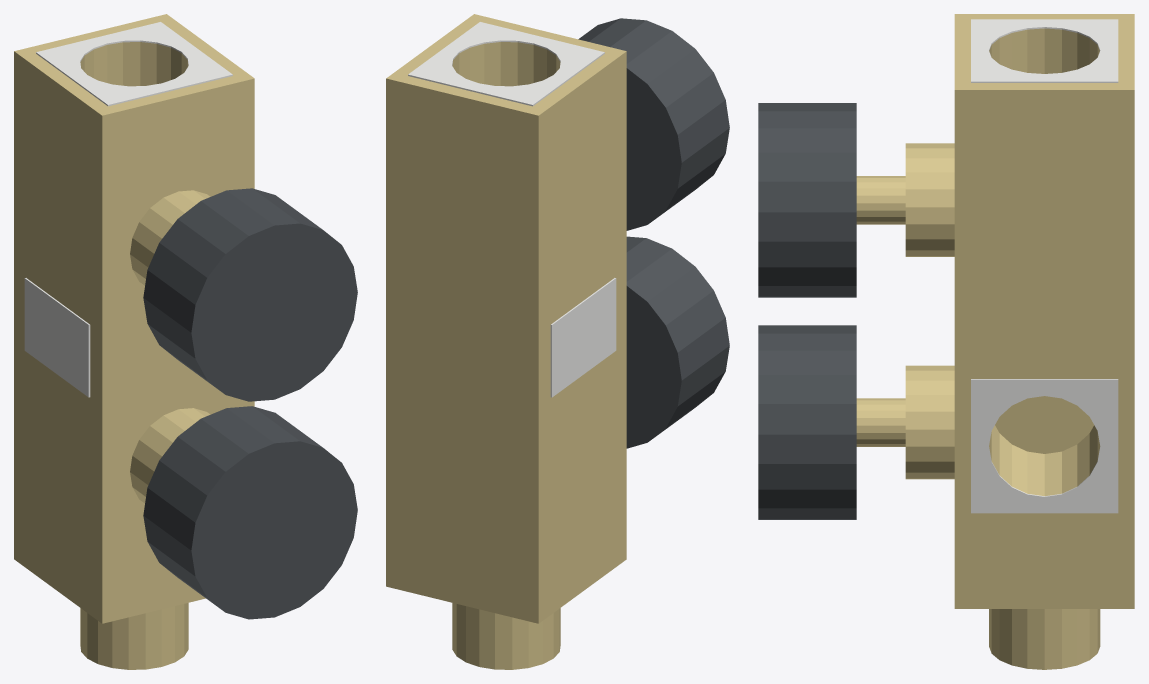
Rendered from valve-gauge-double.glb.
3 renders of one model, left to right at view 1: azimuth 30°, elevation 25°; view 2: azimuth 150°, elevation 25°; view 3: azimuth 270°, elevation 25°, orthographic. The views are drawn at different scales.
Visible parts, largest first — view 1: body, knob-2, knob-4, port-1, port-2; view 2: body, knob-2, knob-4, port-1, port-2; view 3: body, knob-2, knob-4, port-4, port-1, port-2.
Boxes of the visible parts, x1,y1,x2,y2 form: body: (14,14,254,623); knob-2: (143,188,357,401); knob-4: (143,406,357,619); port-1: (80,603,188,669); port-2: (36,22,232,106); body: (386,14,626,623); knob-2: (578,18,729,230); knob-4: (626,236,729,448); port-1: (452,603,560,669); port-2: (408,22,604,106); body: (905,14,1134,608); knob-2: (758,103,905,297); knob-4: (758,325,905,519); port-4: (971,379,1118,513); port-1: (989,609,1100,669); port-2: (971,19,1118,82).
Size of what is drawn, in the model's own units: 0.024 by 0.0804 by 0.046.
